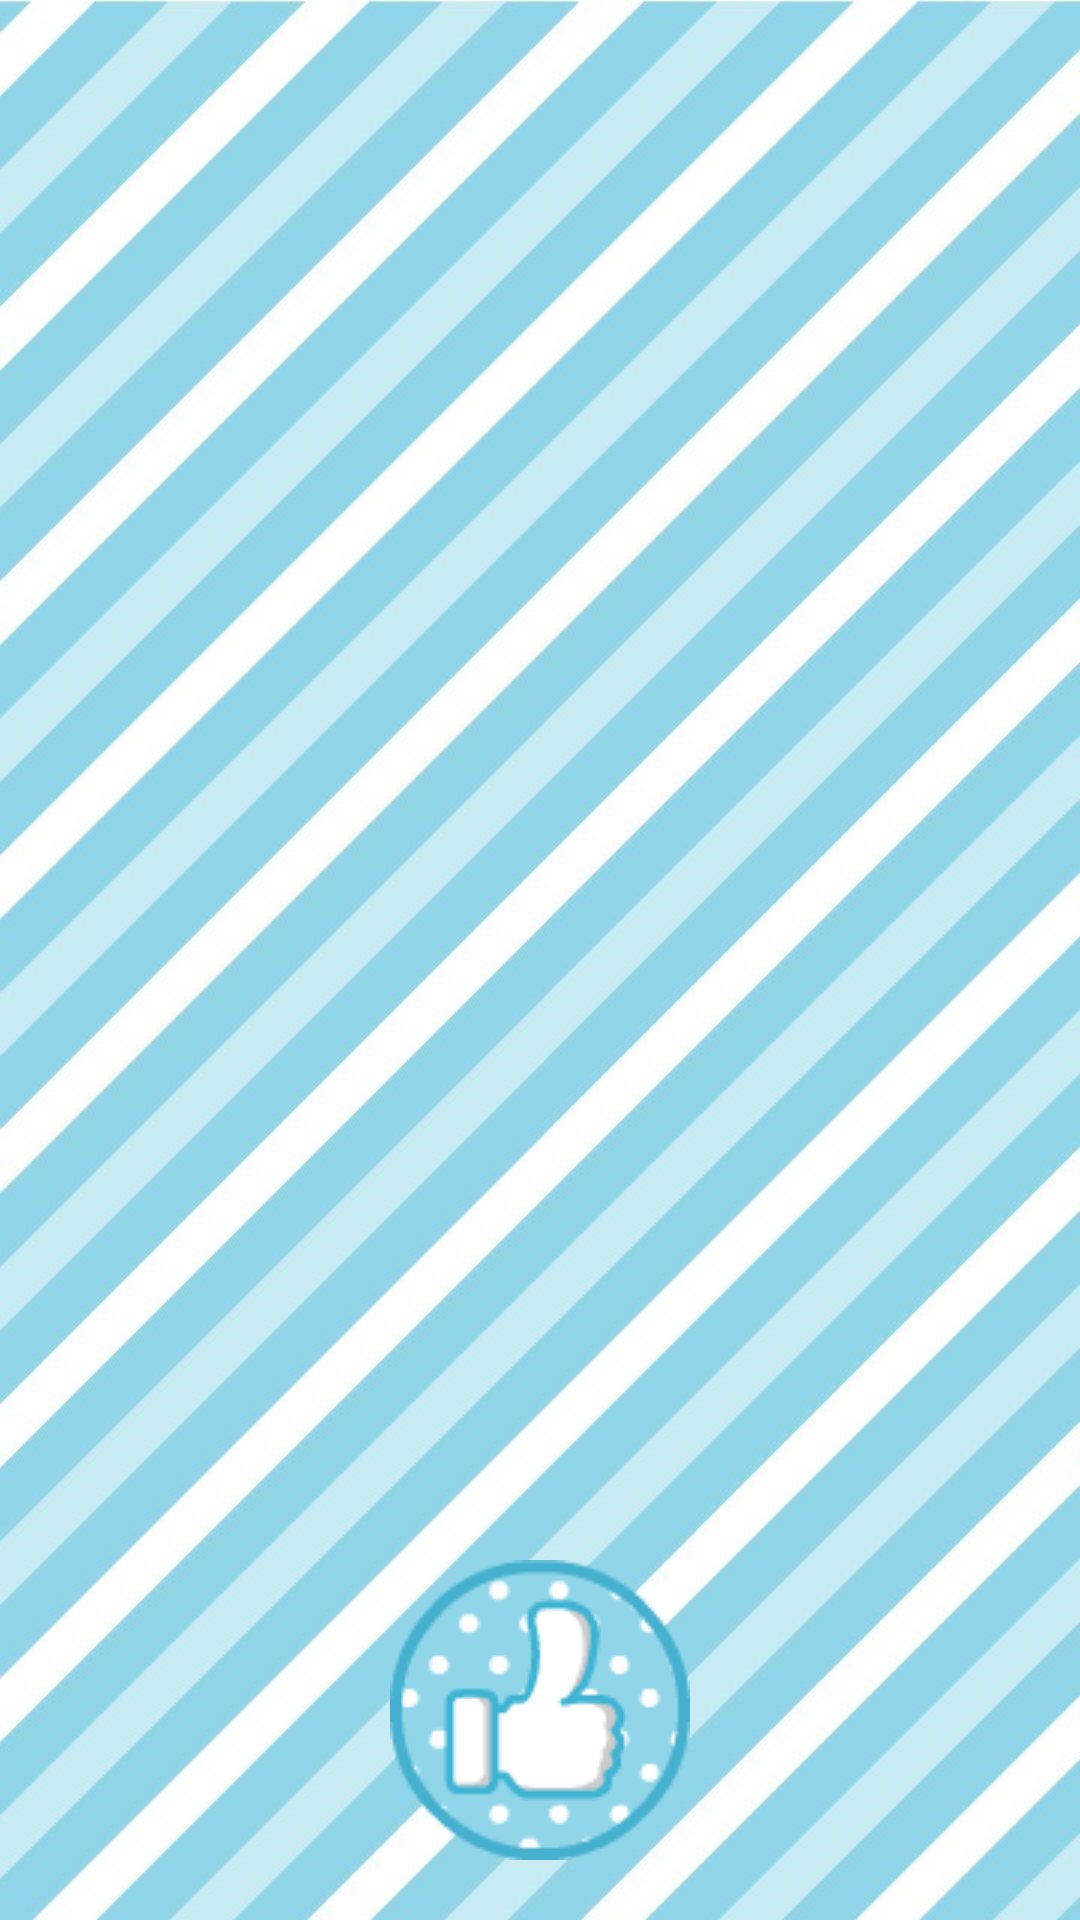

Point at icon controls on the screen. Image size 1080x1920, points as (x=x, y=y).
like: (x=540, y=1710)
